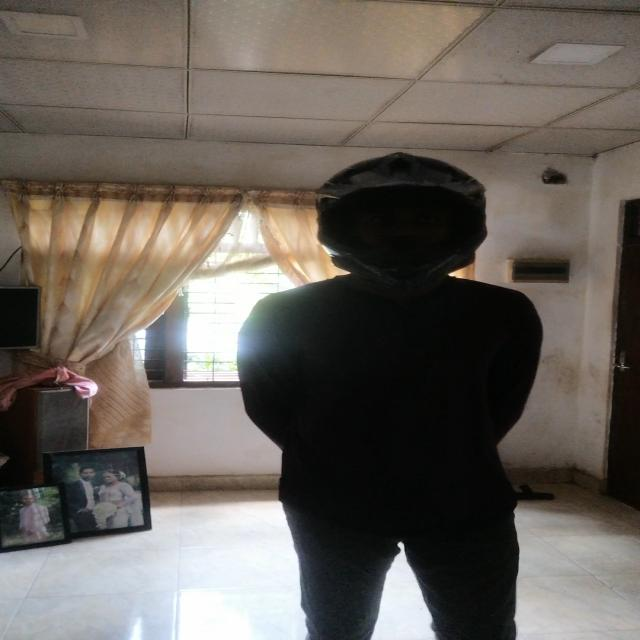Helmet_Wearer: (309, 155, 492, 304)
Person: (213, 145, 548, 640)
